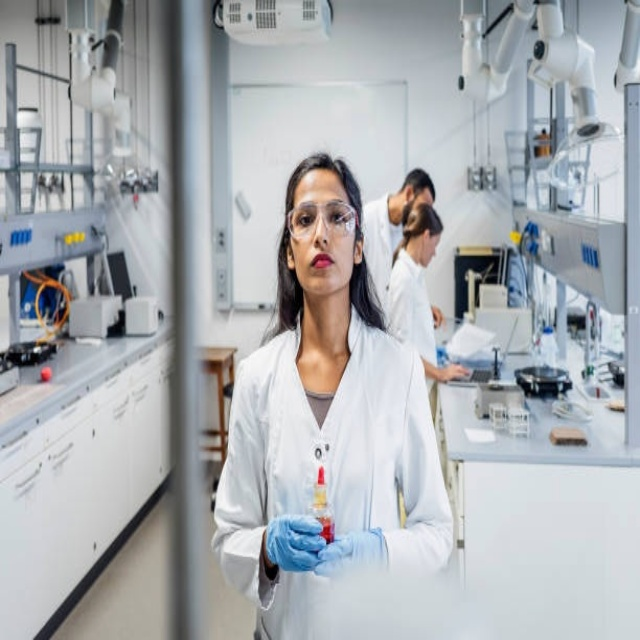Gafas: (287, 202, 358, 242)
Guantes: (266, 513, 326, 577), (313, 527, 387, 577)
Sin_guantes: (441, 360, 472, 382), (431, 307, 445, 329)
Sin_mascara: (301, 249, 342, 289)
